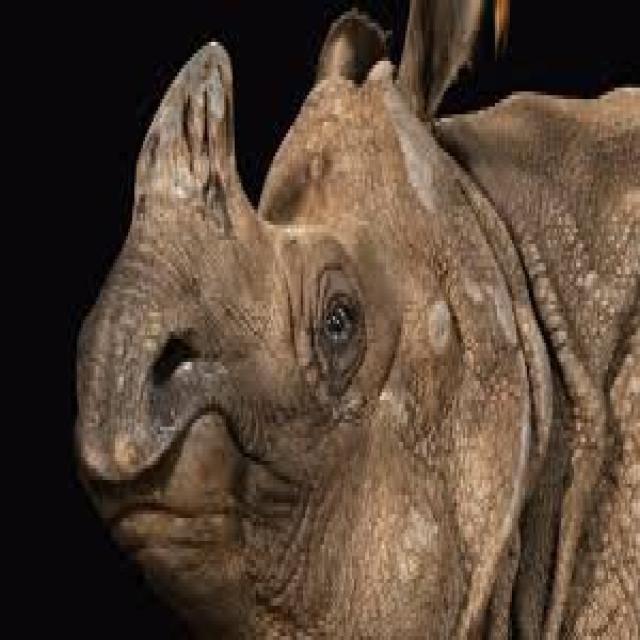Rinoceros: (72, 0, 640, 640)
